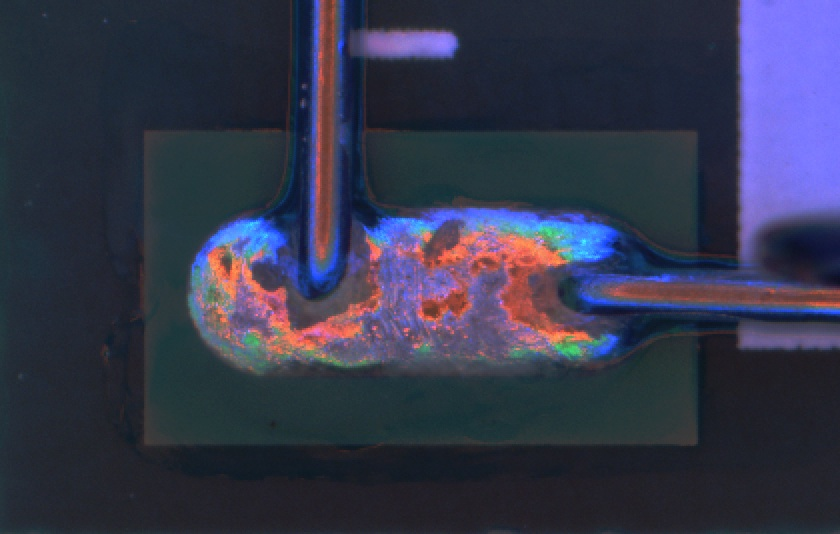spring: (281, 1, 379, 303), (543, 252, 840, 332)
spring_pin: (188, 209, 654, 362)
